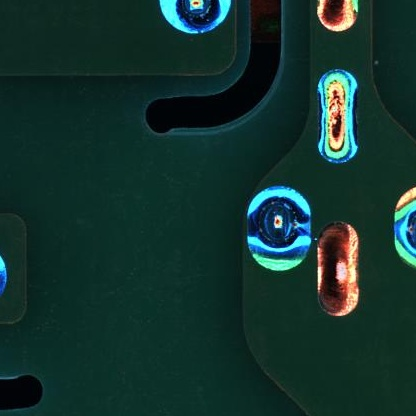spot: (246, 184, 312, 272), (156, 1, 232, 37), (394, 186, 416, 269)
